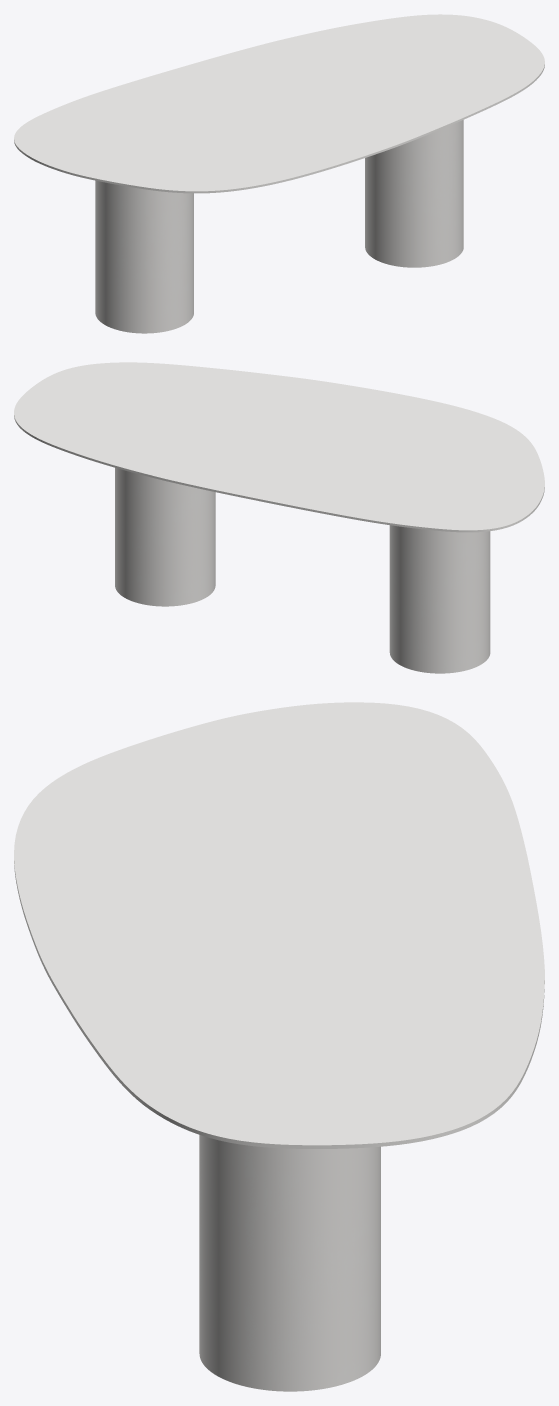
Rendered from purewhite_leaf2_facet_stream.glb.
3 views of the same model, one above another, from view 1: azimuth 30°, elevation 25°; view 2: azimuth 150°, elevation 25°; view 3: azimuth 270°, elevation 25° (orthographic). The views are drawn at different scales.
Parts seen in each view (by area): view 1: facet_leaf2, stream; view 2: facet_leaf2, stream; view 3: facet_leaf2, stream.
Part boxes in pixels (x1,y1,x2,y2): facet_leaf2: (14, 14, 544, 193); stream: (95, 120, 463, 333); facet_leaf2: (14, 362, 544, 532); stream: (115, 468, 490, 673); facet_leaf2: (14, 702, 544, 1148); stream: (199, 1135, 380, 1391).
Size of the model in its own units: 7.5 by 2.5 by 3.8.
1 material, 1 textured.
